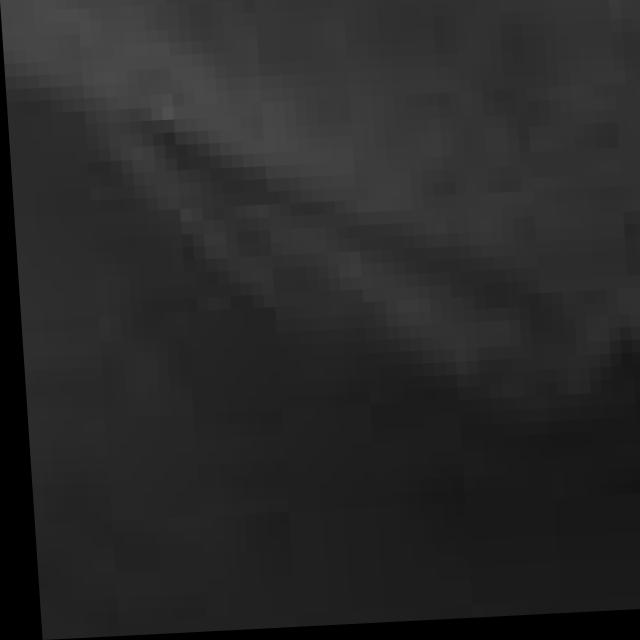fracture: (5, 0, 640, 618)
